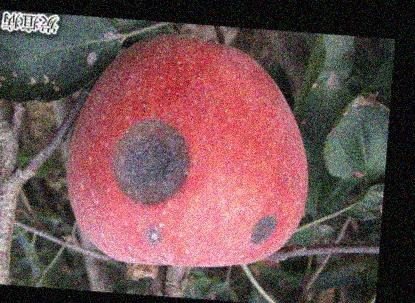rotten apple: (62, 34, 310, 268)
